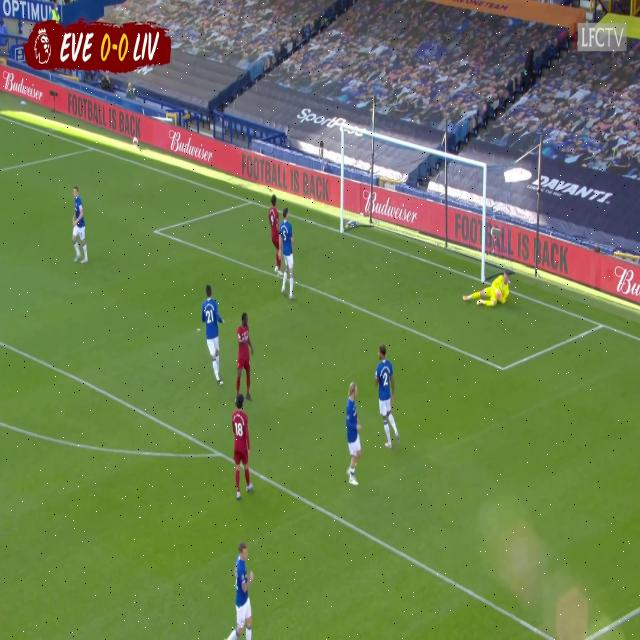GoalKeeper: (464, 272, 513, 309)
TEAM 1: (233, 395, 252, 497), (236, 315, 255, 406), (269, 192, 281, 272)
TEAM 2: (228, 542, 258, 640), (202, 286, 227, 388), (376, 346, 400, 450), (345, 382, 366, 487), (278, 205, 295, 302), (71, 186, 89, 266)
